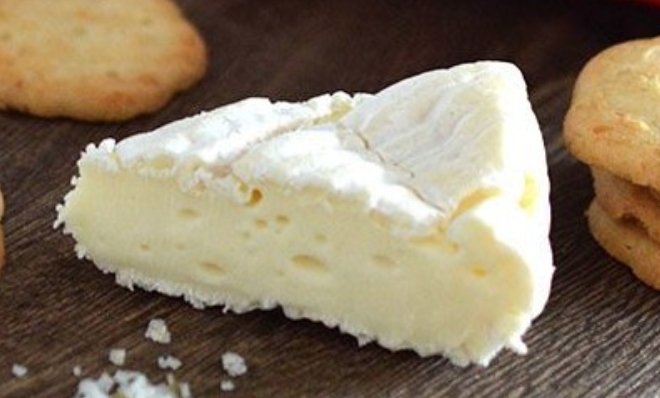camembert: (51, 58, 557, 370)
